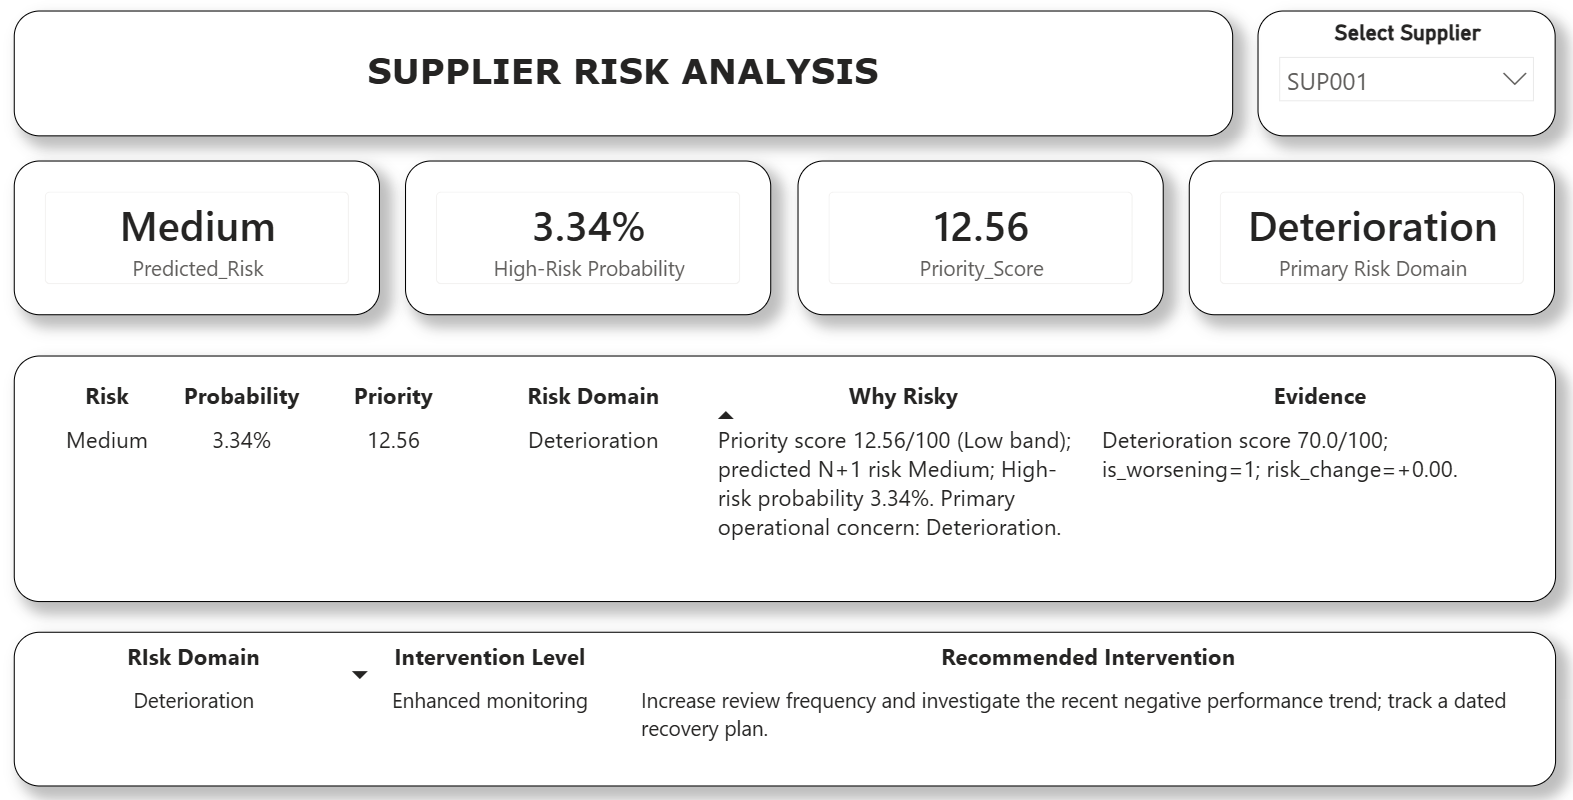

This screenshot's page, from the dashboard's own definition file:
{"tool":"powerbi","page":{"name":"Supplier_Risk_Analysis","canvas":[1280,720],"ordinal":1},"visuals":[{"type":"slicer","title":"Select Supplier","fields":{"Values":["supplier_dashboard.supplier_id"]},"box":[1017.4,25.6,231.4,97.7],"z":0},{"type":"group","id":"g1","title":"Group 1","box":[53.5,141.9,1195.4,119.8],"z":1000},{"type":"cardVisual","fields":{"Data":["Avg(supplier_dashboard.probability_high)"]},"box":[357.2,141.9,284.1,120],"z":1000,"group":"g1"},{"type":"cardVisual","fields":{"Data":["Min(supplier_dashboard.predicted_risk_N1)"]},"box":[53.5,141.9,284.1,120],"z":2000,"group":"g1"},{"type":"tableEx","fields":{"Values":["supplier_dashboard.predicted_risk_N1","Sum(supplier_dashboard.probability_high)","Sum(supplier_dashboard.priority_score)","supplier_dashboard.primary_risk_domain","supplier_dashboard.why_risky","supplier_dashboard.risk_evidence"]},"box":[53,293,1196,191],"z":2000},{"type":"cardVisual","fields":{"Data":["Avg(supplier_dashboard.priority_score)"]},"box":[661,141.9,284.1,120],"z":3000,"group":"g1"},{"type":"tableEx","fields":{"Values":["supplier_dashboard.primary_risk_domain","supplier_dashboard.intervention_level","supplier_dashboard.recommended_intervention"]},"box":[53,507,1196,120],"z":3000},{"type":"textbox","box":[53.5,25.6,945.4,97.7],"z":4000},{"type":"cardVisual","fields":{"Data":["Min(supplier_dashboard.primary_risk_domain)"]},"box":[964.7,141.9,284.1,120],"z":4000,"group":"g1"}]}

Visuals, with their boxes on the page's 1280x720 design canvas (x1, y1, x2, y2). These are canvas units, not pixel positions in the 1573x800 screenshot, which may show the page scaled, cropped or inside an application window:
"Select Supplier" slicer: left=1017, top=26, right=1249, bottom=123
"Group 1" group: left=54, top=142, right=1249, bottom=262
cardVisual - Avg(supplier_dashboard.probability_high): left=357, top=142, right=641, bottom=262
cardVisual - Min(supplier_dashboard.predicted_risk_N1): left=54, top=142, right=338, bottom=262
tableEx - supplier_dashboard.predicted_risk_N1 x Sum(supplier_dashboard.probability_high): left=53, top=293, right=1249, bottom=484
cardVisual - Avg(supplier_dashboard.priority_score): left=661, top=142, right=945, bottom=262
tableEx - supplier_dashboard.primary_risk_domain x supplier_dashboard.intervention_level: left=53, top=507, right=1249, bottom=627
textbox: left=54, top=26, right=999, bottom=123
cardVisual - Min(supplier_dashboard.primary_risk_domain): left=965, top=142, right=1249, bottom=262
